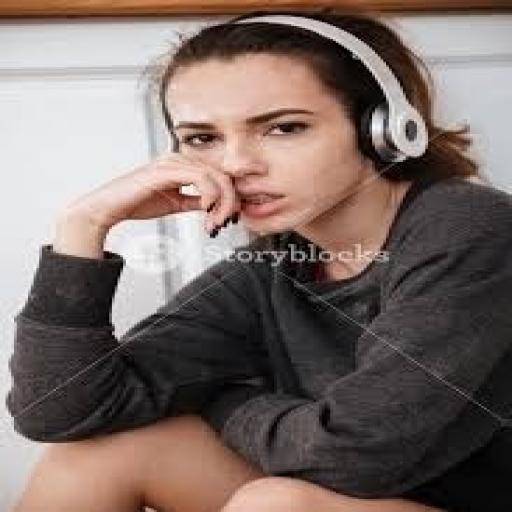listening_to_music: (3, 9, 509, 510)
